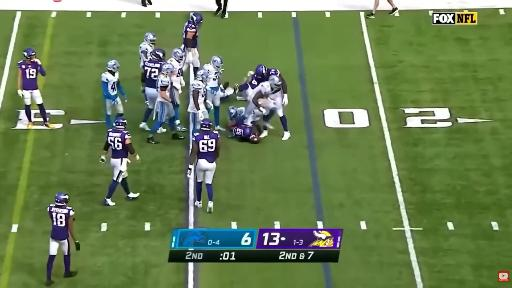Helmet: (269, 75, 282, 93), (172, 47, 185, 62), (210, 56, 223, 71), (55, 192, 69, 205), (151, 49, 165, 61), (196, 70, 209, 82), (255, 65, 267, 78), (144, 32, 156, 44), (191, 13, 203, 25), (107, 60, 119, 72), (200, 119, 212, 130), (23, 48, 35, 59), (162, 63, 174, 74), (115, 118, 127, 128), (228, 107, 237, 119), (243, 126, 251, 138)
Jersey: (48, 204, 74, 240), (193, 131, 219, 163), (107, 129, 130, 158), (18, 61, 40, 90), (188, 80, 206, 112), (143, 60, 162, 88), (167, 58, 182, 89), (102, 72, 118, 100), (203, 63, 220, 87), (183, 20, 198, 47), (157, 74, 170, 102), (139, 42, 154, 66), (253, 82, 280, 95), (232, 124, 252, 140), (248, 75, 265, 89), (229, 108, 245, 120), (267, 69, 280, 79)
Player: (100, 118, 139, 206), (46, 193, 80, 286), (147, 63, 184, 143), (188, 120, 220, 212), (246, 75, 290, 140), (18, 48, 53, 128), (203, 56, 233, 130), (140, 49, 165, 130), (101, 60, 127, 128), (168, 48, 187, 131), (182, 13, 203, 75), (188, 70, 208, 133), (228, 107, 262, 143), (236, 65, 268, 101), (139, 32, 156, 92), (268, 69, 288, 106), (231, 124, 260, 143)
